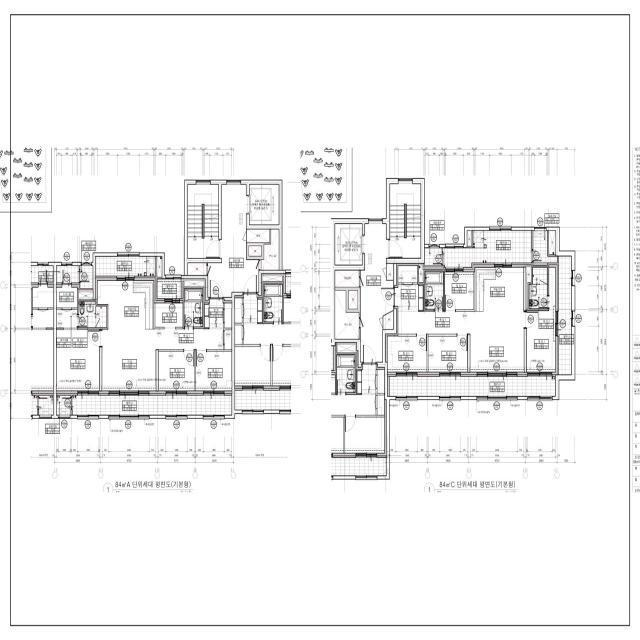space_balconi: (72, 395, 232, 415), (443, 231, 531, 267), (389, 377, 555, 396), (559, 257, 571, 375), (96, 257, 156, 276), (157, 279, 181, 298), (57, 266, 79, 283)
space_bedroom: (527, 268, 555, 372), (56, 330, 100, 391), (387, 336, 427, 372), (428, 336, 468, 372), (196, 352, 232, 391), (159, 352, 194, 391), (445, 272, 474, 310)
space_dressroom: (56, 285, 77, 328)
space_elevator: (249, 185, 279, 225), (335, 224, 362, 265)
space_elevator_hall: (208, 184, 259, 297), (361, 224, 393, 362)
space_front: (204, 299, 232, 328), (395, 285, 423, 312)
space_kitchen: (97, 281, 152, 330), (475, 268, 524, 311)
space_living_room: (102, 329, 232, 391), (398, 312, 524, 372)
space_other: (335, 291, 359, 339), (262, 230, 279, 270), (155, 303, 183, 327), (335, 271, 359, 287), (398, 266, 417, 282), (247, 229, 270, 242), (425, 248, 442, 265), (80, 266, 93, 288), (188, 263, 206, 275), (526, 267, 531, 309), (383, 311, 393, 329), (348, 291, 358, 309), (549, 231, 556, 254), (249, 246, 262, 256), (184, 281, 204, 287), (157, 257, 162, 277), (79, 292, 93, 299), (387, 264, 393, 280), (467, 231, 472, 246), (419, 266, 423, 282)
space_outdoor_room: (533, 231, 557, 263), (57, 396, 71, 415)
space_staircase: (390, 184, 421, 258), (188, 185, 219, 258)
space_toilet: (184, 288, 203, 327), (529, 268, 547, 309), (79, 301, 107, 327), (425, 272, 443, 309)
